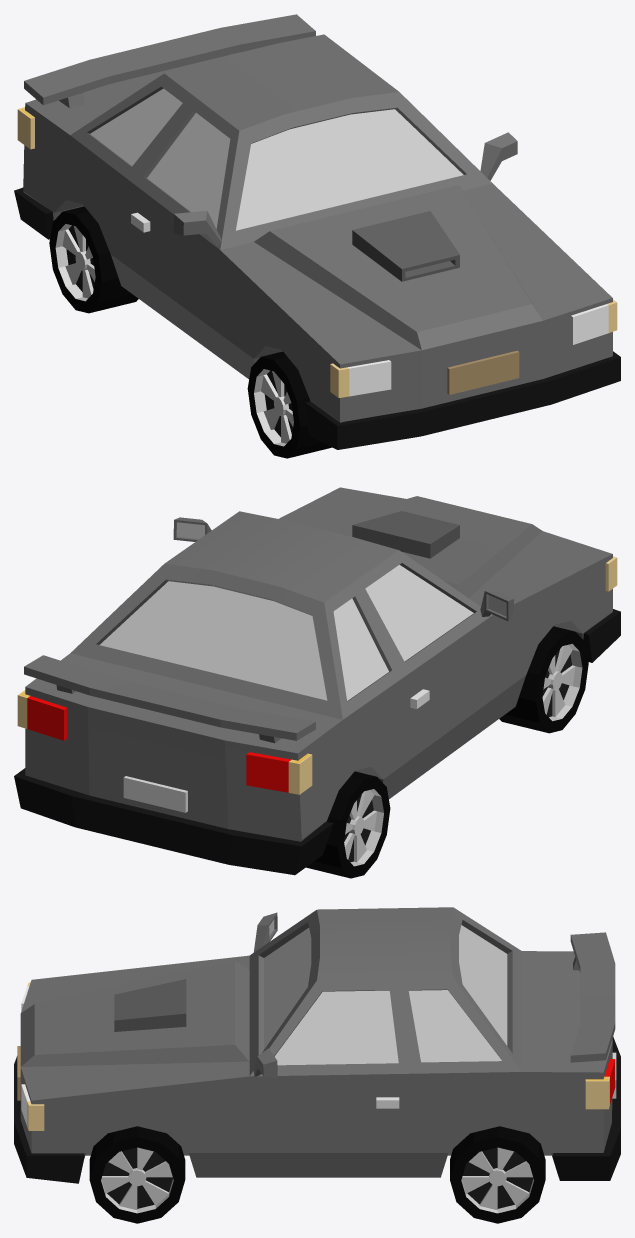
Rendered from Car-07-C.fbx.
3 views of the same model, one above another, from view 1: azimuth 30°, elevation 25°; view 2: azimuth 150°, elevation 25°; view 3: azimuth 270°, elevation 25° (orthographic). The views are drawn at different scales.
Visible parts, largest first — view 1: Car-07, BR, FR, Head-Light, Light-Right; view 2: Car-07, FR, BR, Break-Light, Light-Right; view 3: Car-07, FL, BL, Light-Left.
Boxes of the visible parts, <box> form: Car-07: <box>14,14,620,449</box>; BR: <box>49,206,138,313</box>; FR: <box>247,351,331,458</box>; Head-Light: <box>348,304,608,396</box>; Light-Right: <box>17,107,349,397</box>; Car-07: <box>14,487,620,875</box>; FR: <box>499,626,588,733</box>; BR: <box>306,771,390,878</box>; Break-Light: <box>27,696,291,792</box>; Light-Right: <box>288,556,617,794</box>; Car-07: <box>14,907,620,1183</box>; FL: <box>89,1126,185,1223</box>; BL: <box>450,1126,545,1223</box>; Light-Left: <box>27,1076,609,1130</box>.
Size of the model in its own units: 2.47 by 1.7 by 4.24.
